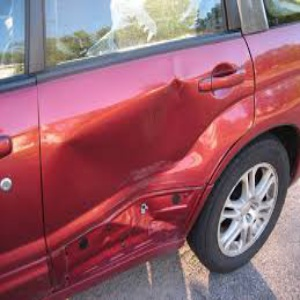door: (30, 98, 197, 254)
